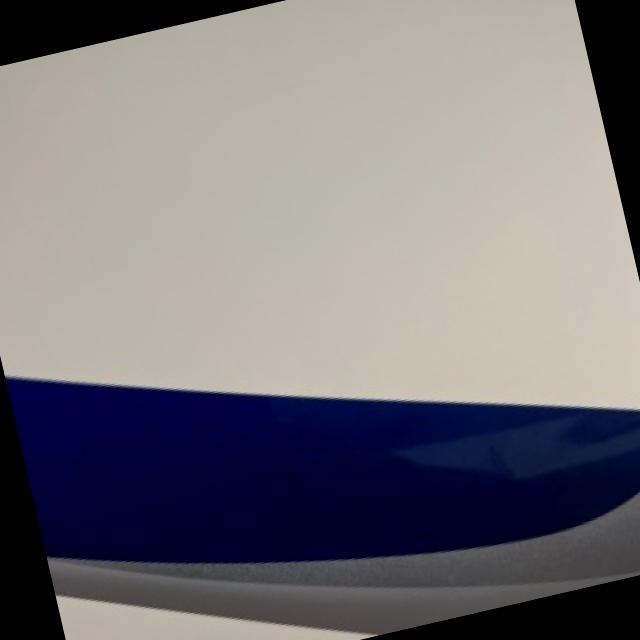healthy: (5, 376, 640, 633)
